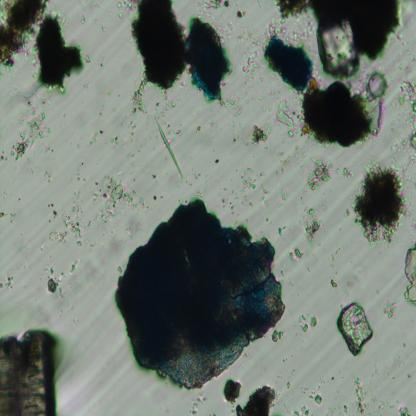Background material: (276, 1, 404, 77), (302, 71, 387, 150), (0, 323, 58, 415), (127, 0, 186, 86), (353, 161, 411, 244), (37, 10, 82, 96), (0, 1, 49, 68), (92, 169, 144, 222), (8, 104, 52, 165), (337, 302, 373, 358), (391, 78, 416, 151), (155, 115, 183, 180), (235, 384, 275, 416), (49, 211, 82, 248), (241, 36, 263, 90), (298, 198, 320, 245), (268, 143, 297, 178), (305, 154, 332, 191), (276, 99, 301, 138), (402, 244, 416, 307), (130, 79, 148, 118), (106, 127, 134, 152), (240, 166, 260, 195), (222, 376, 242, 404), (250, 121, 272, 144), (228, 90, 244, 118), (193, 0, 230, 12), (354, 378, 365, 416), (297, 313, 317, 332), (381, 298, 398, 320), (86, 125, 99, 152), (190, 390, 204, 414), (109, 1, 125, 22), (224, 192, 238, 214), (63, 256, 82, 272), (45, 277, 58, 297), (289, 250, 303, 266), (272, 329, 285, 343), (0, 276, 13, 290), (292, 405, 310, 415), (281, 187, 293, 202), (342, 166, 354, 179), (276, 224, 288, 236), (398, 404, 410, 415), (236, 7, 248, 18), (314, 392, 322, 405), (82, 53, 90, 66), (330, 278, 338, 288), (212, 156, 220, 165)
Fragment: (113, 198, 287, 390), (186, 15, 230, 107), (263, 35, 314, 94)
